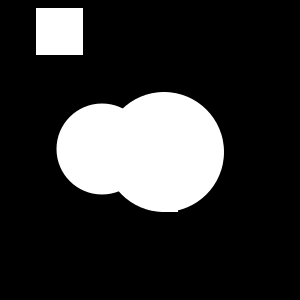circle: (36, 8, 83, 55), (162, 196, 178, 212)
rectangle: (104, 92, 224, 212), (57, 103, 148, 194)
